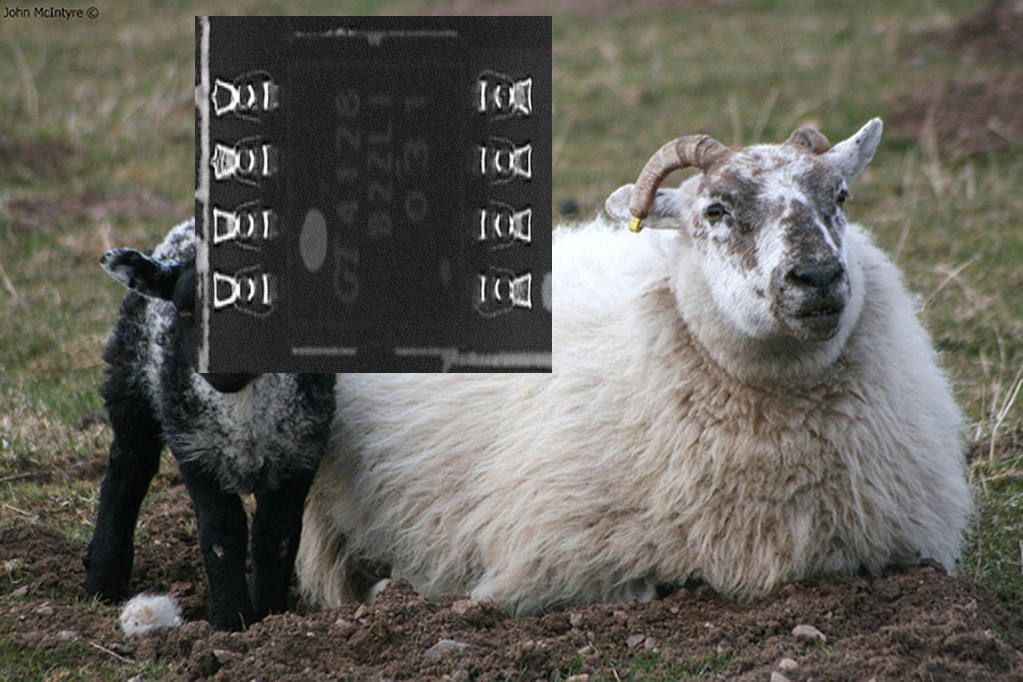PAD: (205, 47, 297, 337), (454, 48, 544, 337)
sheep: (298, 111, 971, 590), (84, 215, 351, 626)
